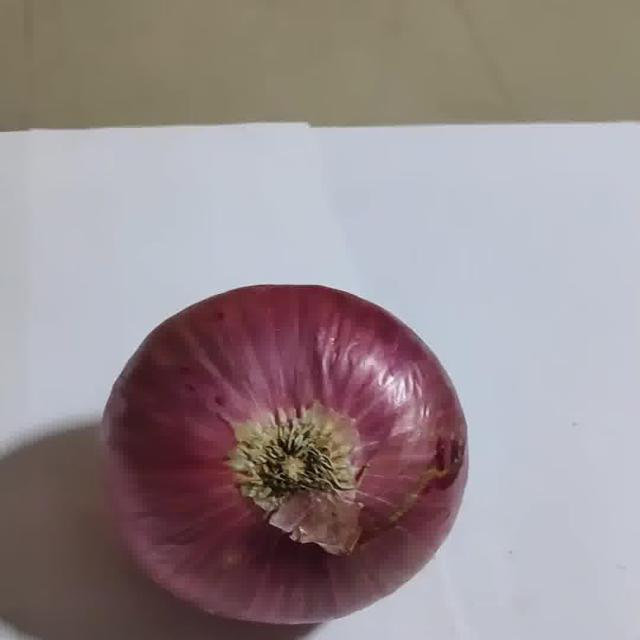Onion: (103, 285, 466, 624)
